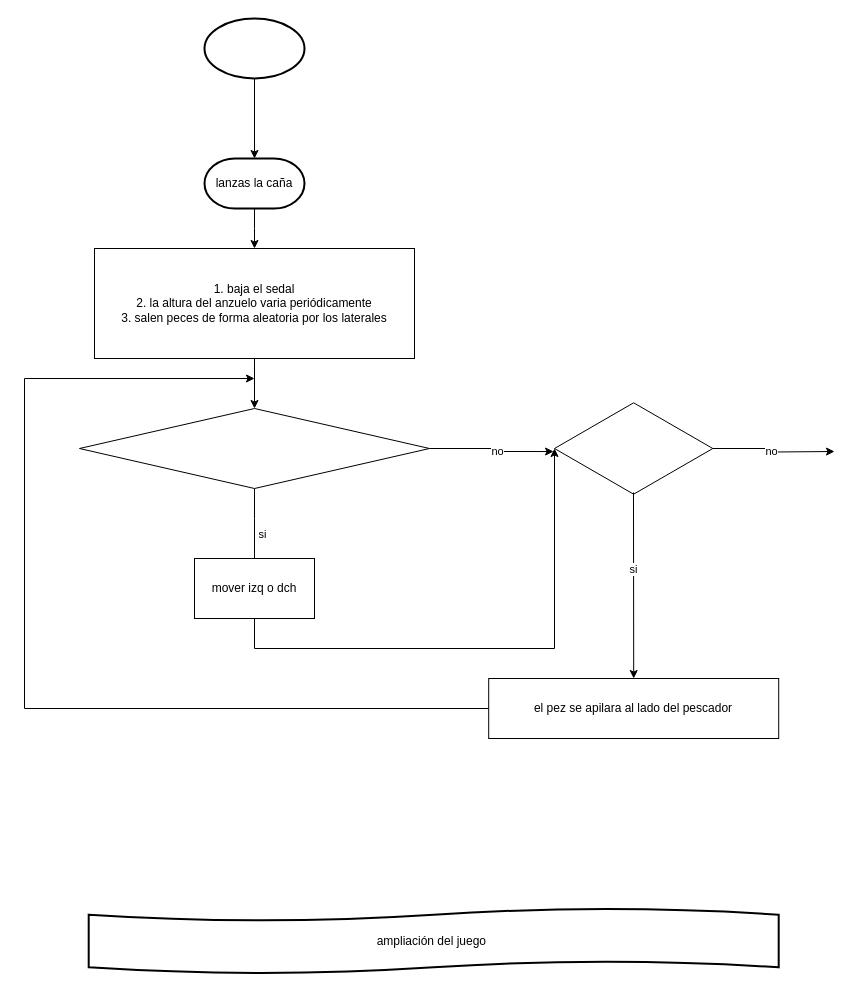
Image size: 860x991. Some labels were removed from this diagram. Each missing label, with the box of its shape:
hace click: (203, 17, 305, 79)
¿colisiona el pez con el anzuelo?: (554, 400, 713, 496)
¿el jugador pulso tecla izquierda o derecha?: (78, 408, 430, 488)
